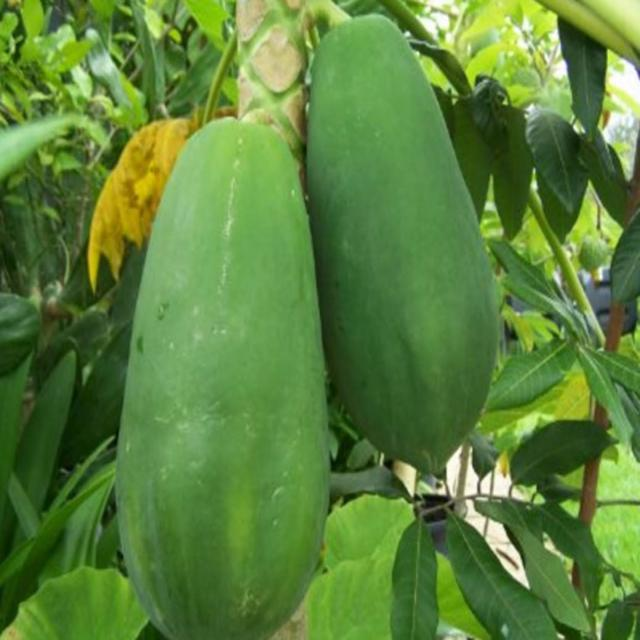Pepaya unrippen: (118, 114, 336, 640), (292, 24, 502, 483)
